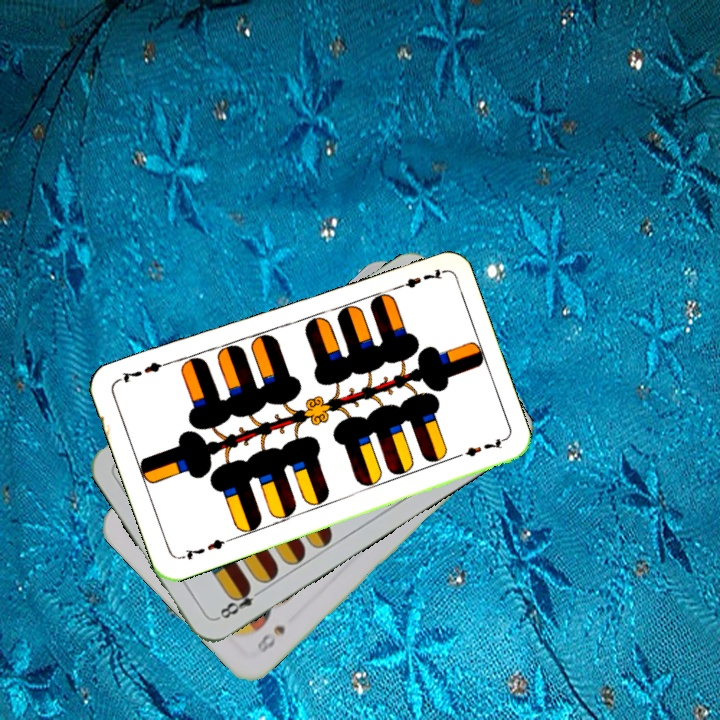E7: (388, 264, 445, 294), (176, 534, 233, 563)
E8: (213, 581, 266, 622)
S8: (252, 621, 288, 656)
